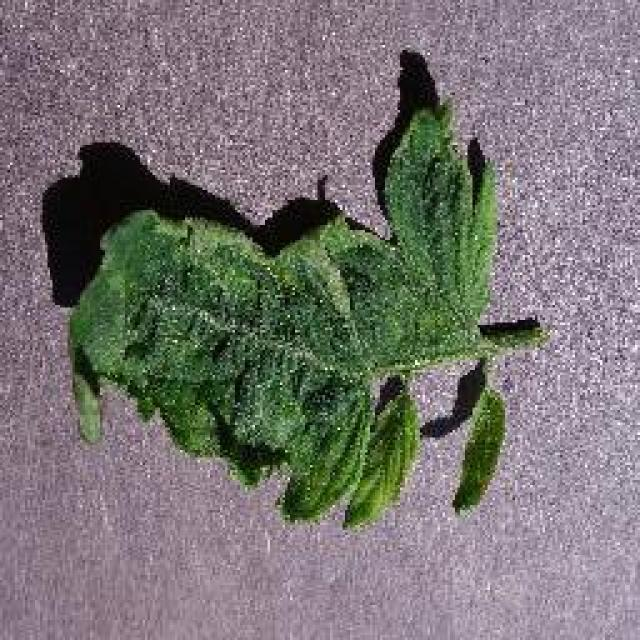Tomato spider mites leaf: (68, 108, 510, 532)
